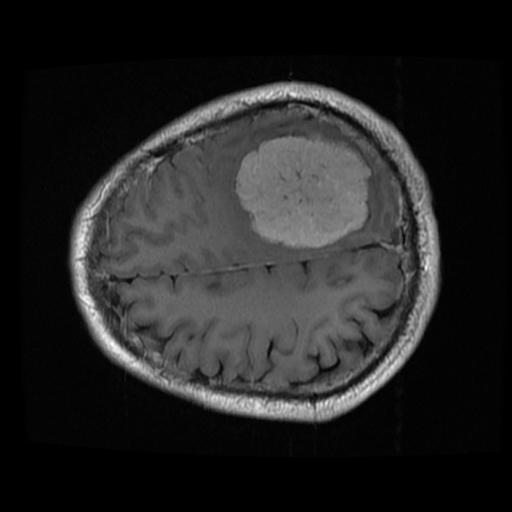meningioma: (235, 137, 370, 249)
